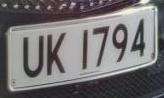1: (74, 26, 93, 76)
4: (129, 17, 149, 61)
7: (90, 22, 112, 71)
9: (110, 20, 131, 66)
K: (44, 28, 69, 82)
U: (20, 31, 46, 83)
